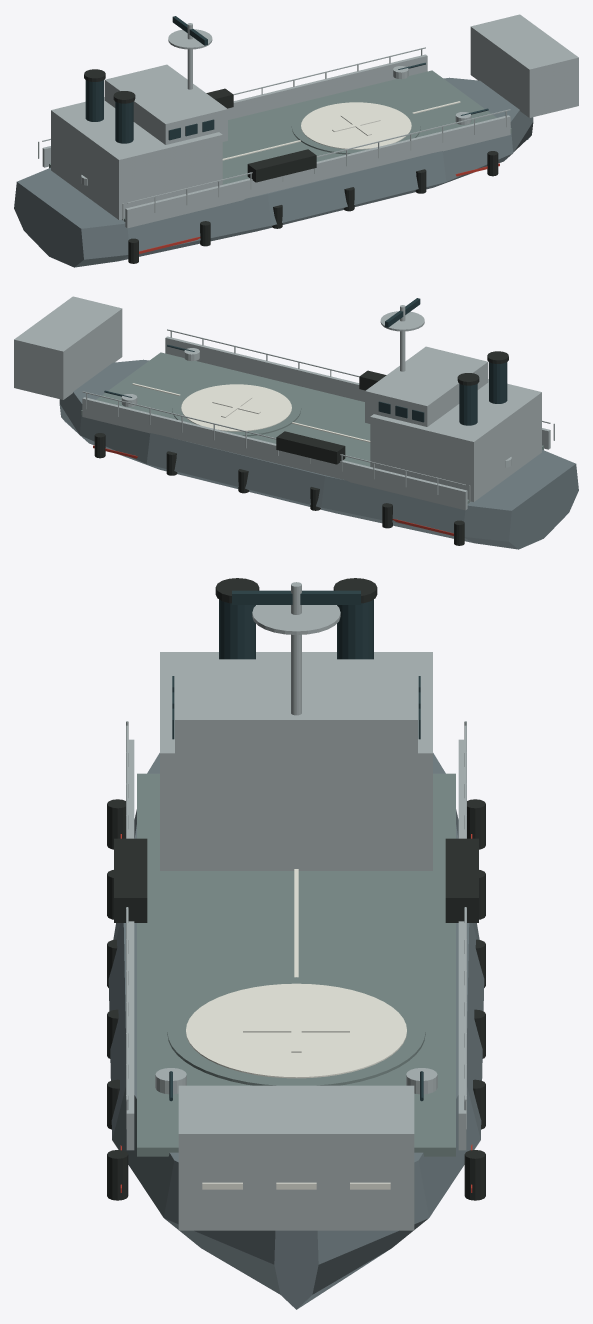
The model's file is lst.glb.
The picture shows the model from 3 angles, top to bottom: view 1: azimuth 30°, elevation 25°; view 2: azimuth 150°, elevation 25°; view 3: azimuth 270°, elevation 25°; orthographic projection. The views are drawn at different scales.
Parts seen in each view (by area): view 1: LST_Hull, AftSuperstructure, VehicleDeck, BowRampMesh, Bulwark_Starboard, Bridge, HelipadRing, Bulwark_Port, RHIB_1, HelipadDisc, ExhaustStack.001, ExhaustStack (+4 smaller); view 2: LST_Hull, AftSuperstructure, VehicleDeck, BowRampMesh, Bulwark_Port, Bridge, HelipadRing, Bulwark_Starboard, RHIB_-1, HelipadDisc, ExhaustStack, ExhaustStack.001 (+4 smaller); view 3: VehicleDeck, BowRampMesh, Bridge, AftSuperstructure, LST_Hull, HelipadRing, HelipadDisc, RHIB_-1, RHIB_1, Bulwark_Port, Bulwark_Starboard, NavigationRadar (+8 smaller).
Boxes of the visible parts, box(x1,y1,x2,y2) form: LST_Hull: box(14, 77, 533, 267); AftSuperstructure: box(51, 97, 222, 219); VehicleDeck: box(49, 70, 511, 221); BowRampMesh: box(470, 14, 578, 117); Bulwark_Starboard: box(125, 115, 510, 228); Bridge: box(104, 64, 227, 144); HelipadRing: box(301, 102, 411, 149); Bulwark_Port: box(42, 54, 427, 167); RHIB_1: box(247, 149, 316, 182); HelipadDisc: box(291, 99, 420, 154); ExhaustStack.001: box(115, 102, 133, 143); ExhaustStack: box(85, 80, 103, 121); LST_Hull: box(59, 359, 578, 549); AftSuperstructure: box(370, 379, 541, 501); VehicleDeck: box(81, 352, 543, 503); BowRampMesh: box(14, 296, 122, 399); Bulwark_Port: box(82, 397, 467, 510); Bridge: box(365, 346, 488, 426); HelipadRing: box(181, 384, 291, 431); Bulwark_Starboard: box(165, 336, 550, 449); RHIB_-1: box(276, 431, 345, 464); HelipadDisc: box(172, 381, 301, 436); ExhaustStack: box(459, 384, 477, 425); ExhaustStack.001: box(489, 362, 507, 403); VehicleDeck: box(137, 773, 455, 1156); BowRampMesh: box(178, 1085, 414, 1230); Bridge: box(175, 659, 417, 783); AftSuperstructure: box(160, 652, 432, 870); LST_Hull: box(108, 753, 484, 1309); HelipadRing: box(186, 983, 406, 1078); HelipadDisc: box(167, 977, 425, 1085); RHIB_-1: box(445, 838, 478, 922); RHIB_1: box(114, 838, 147, 922); Bulwark_Port: box(458, 739, 466, 1150); Bulwark_Starboard: box(126, 739, 134, 1150); NavigationRadar: box(252, 605, 340, 634).
Bounding box in the file's own units: 62.83 × 23.7 × 20.56.
